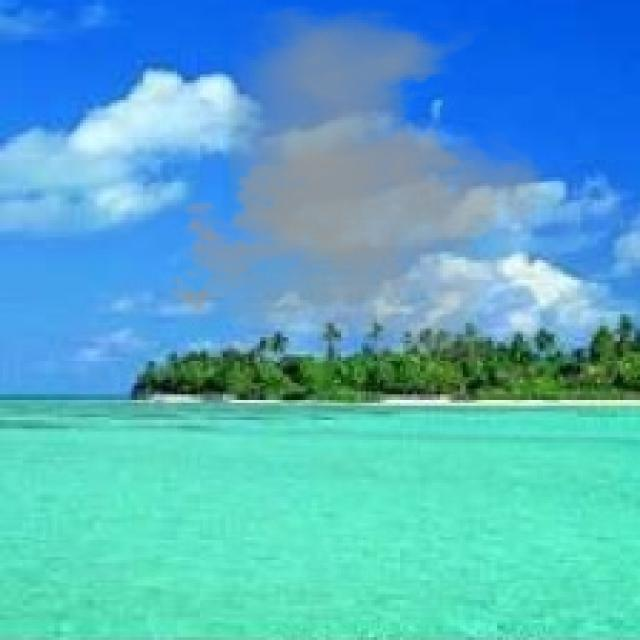smoke: (157, 6, 560, 363)
